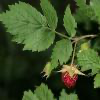Raspberry leaf: (0, 0, 58, 51), (45, 36, 74, 75), (62, 3, 77, 39)
